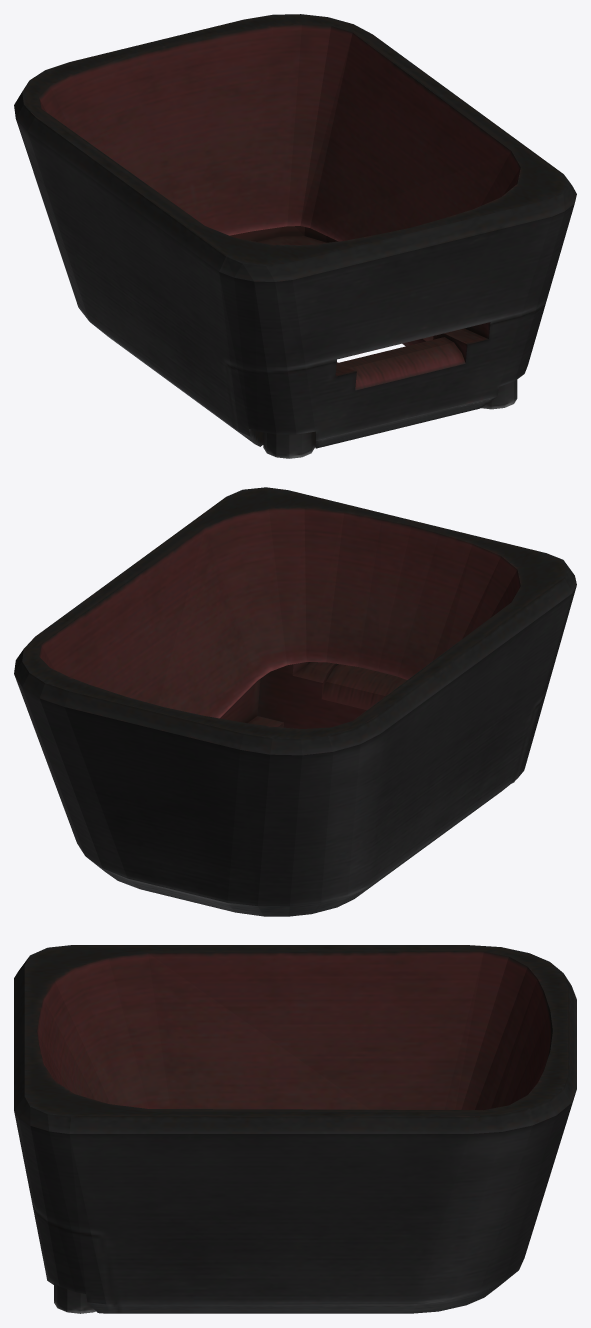
The picture shows the model from 3 angles, top to bottom: view 1: azimuth 30°, elevation 25°; view 2: azimuth 150°, elevation 25°; view 3: azimuth 270°, elevation 25°; orthographic projection. The views are drawn at different scales.
Visible parts, largest first — view 1: TW_602f85fd9b513876d4338d9c_PZ_Import; view 2: TW_602f85fd9b513876d4338d9c_PZ_Import; view 3: TW_602f85fd9b513876d4338d9c_PZ_Import.
Boxes of the visible parts, left/top/right/bottom form: TW_602f85fd9b513876d4338d9c_PZ_Import: left=14, top=14, right=576, bottom=458; TW_602f85fd9b513876d4338d9c_PZ_Import: left=14, top=487, right=576, bottom=916; TW_602f85fd9b513876d4338d9c_PZ_Import: left=14, top=945, right=576, bottom=1313.
Bounding box in the file's own units: 0.0323 × 0.0428 × 0.0185.
1 material, 1 textured.
